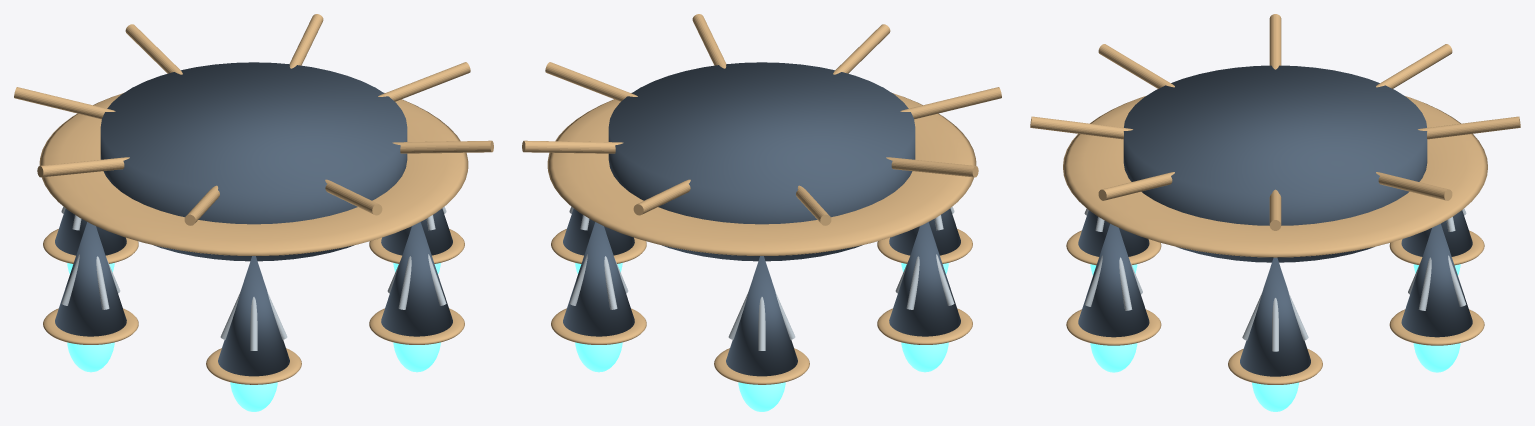
File: ion_thrusters.glb
3 renders of one model, left to right at view 1: azimuth 30°, elevation 25°; view 2: azimuth 150°, elevation 25°; view 3: azimuth 270°, elevation 25°, orthographic.
Visible parts, largest first — view 1: DISPLAY_03_04_•_Graphite_titanium, DISPLAY_00_03_•_Champagne_bronze, DISPLAY_02_11_•_Ion_emission_blue, DISPLAY_04_01_•_Porcelain_silver; view 2: DISPLAY_03_04_•_Graphite_titanium, DISPLAY_00_03_•_Champagne_bronze, DISPLAY_02_11_•_Ion_emission_blue, DISPLAY_04_01_•_Porcelain_silver; view 3: DISPLAY_03_04_•_Graphite_titanium, DISPLAY_00_03_•_Champagne_bronze, DISPLAY_02_11_•_Ion_emission_blue, DISPLAY_04_01_•_Porcelain_silver.
Part boxes in pixels (x1,y1,x2,y2): DISPLAY_03_04_•_Graphite_titanium: (55, 62, 452, 376); DISPLAY_00_03_•_Champagne_bronze: (14, 14, 493, 384); DISPLAY_02_11_•_Ion_emission_blue: (67, 263, 440, 411); DISPLAY_04_01_•_Porcelain_silver: (61, 206, 446, 350); DISPLAY_03_04_•_Graphite_titanium: (563, 62, 960, 376); DISPLAY_00_03_•_Champagne_bronze: (522, 14, 1001, 384); DISPLAY_02_11_•_Ion_emission_blue: (575, 263, 948, 411); DISPLAY_04_01_•_Porcelain_silver: (569, 206, 954, 350); DISPLAY_03_04_•_Graphite_titanium: (1078, 65, 1472, 376); DISPLAY_00_03_•_Champagne_bronze: (1030, 14, 1520, 384); DISPLAY_02_11_•_Ion_emission_blue: (1090, 264, 1460, 411); DISPLAY_04_01_•_Porcelain_silver: (1084, 208, 1466, 351).
Bounding box in the file's own units: 2.97 × 1.43 × 2.97.
